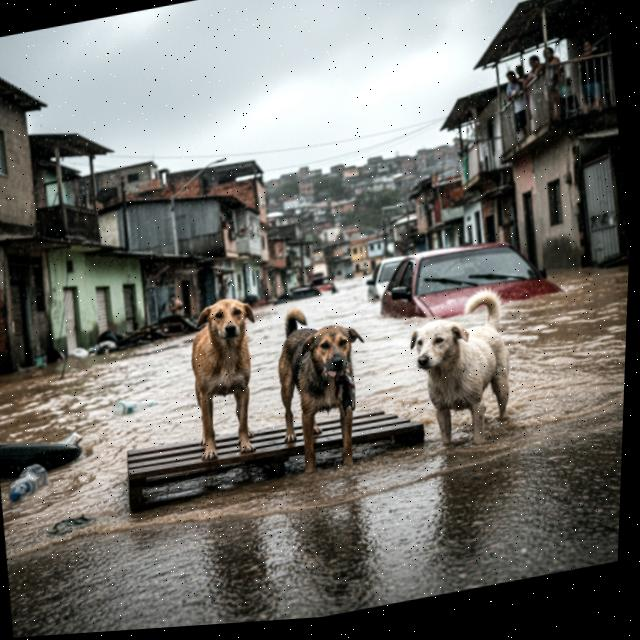civilian: (572, 36, 609, 113), (500, 64, 533, 140), (538, 44, 564, 75), (524, 50, 546, 79), (510, 60, 532, 88)
dog: (397, 278, 541, 461), (259, 293, 381, 482), (173, 285, 277, 467)
